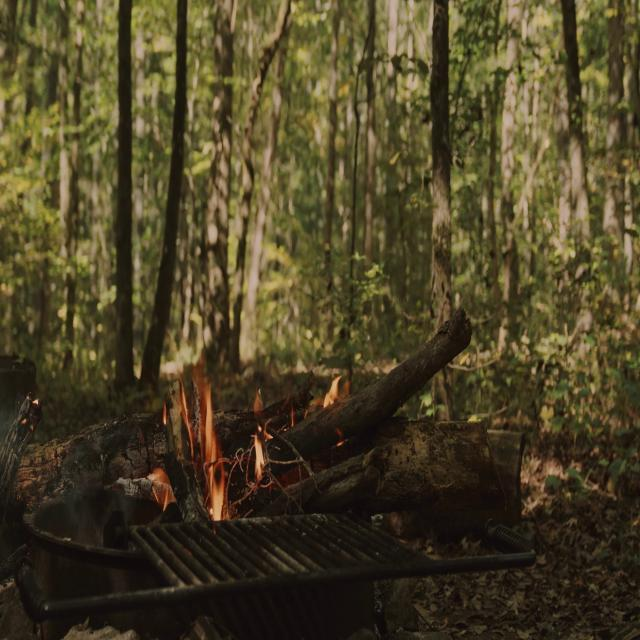Fire: (147, 371, 225, 524), (249, 383, 271, 492)
